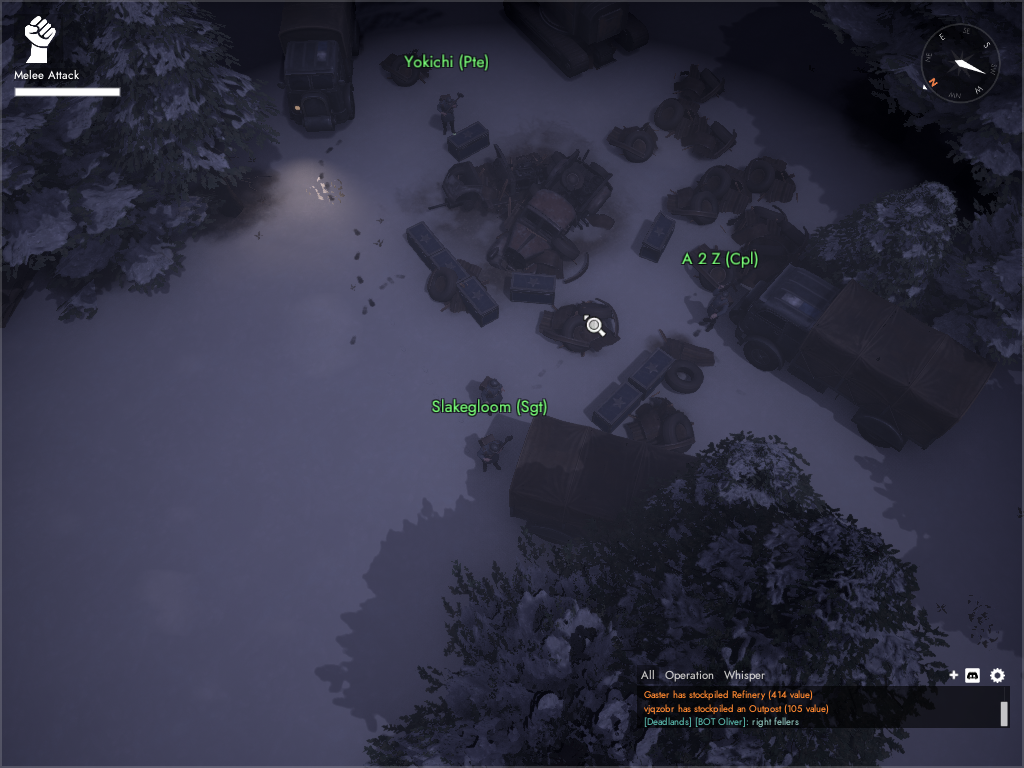crane: (509, 1, 651, 78)
player: (477, 434, 511, 474), (699, 290, 729, 332), (436, 92, 463, 136), (477, 375, 504, 418)
scrap: (534, 295, 621, 354), (648, 331, 721, 398), (621, 396, 703, 452), (732, 203, 805, 248), (688, 244, 756, 291), (375, 45, 437, 94), (699, 159, 751, 217), (744, 150, 794, 210), (684, 115, 742, 162), (605, 122, 663, 168), (664, 180, 720, 227), (670, 64, 728, 107), (652, 95, 703, 141)
scrapyard: (429, 148, 616, 286)
storage_box: (584, 377, 644, 433), (626, 345, 679, 399), (457, 274, 501, 328), (444, 119, 495, 165), (638, 211, 678, 267), (506, 272, 563, 308), (426, 246, 470, 288), (403, 219, 444, 260)
truck: (735, 264, 995, 453), (508, 411, 698, 541), (278, 1, 356, 134)
